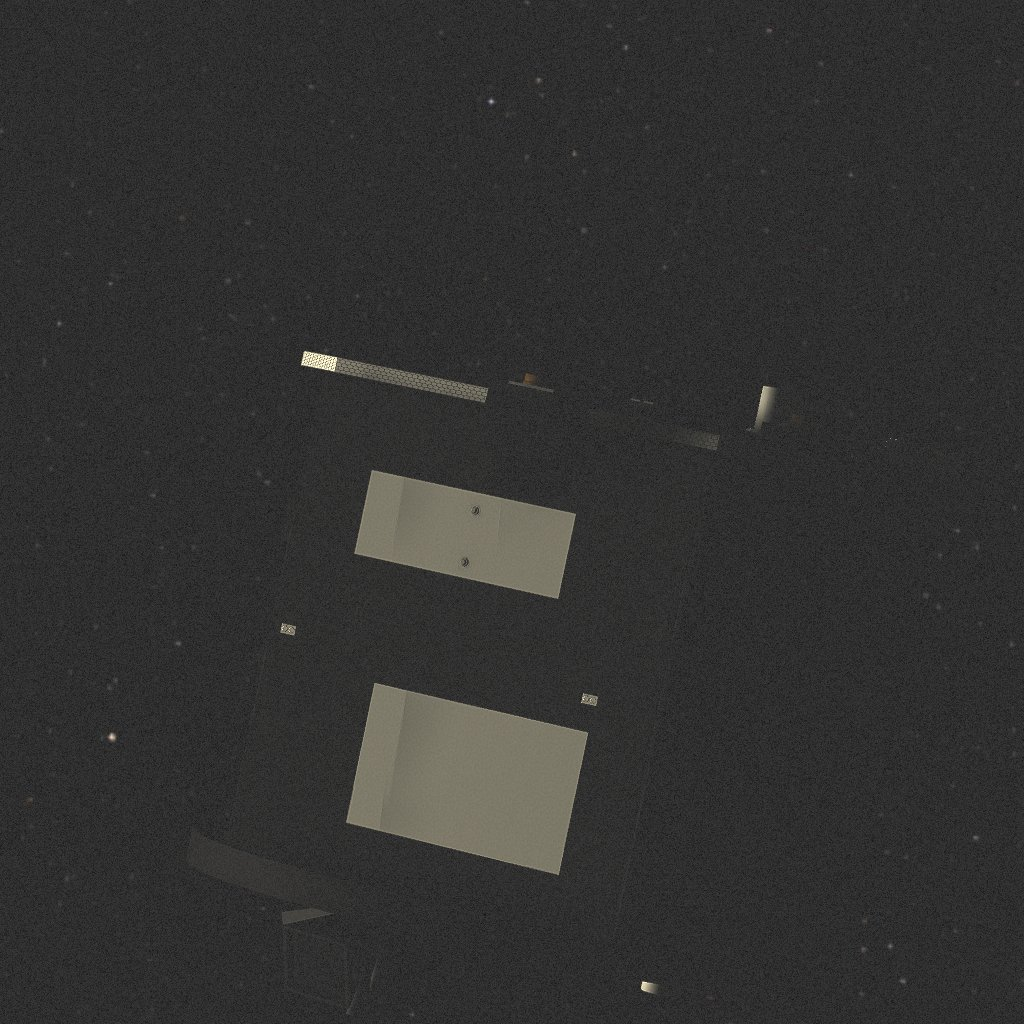proba_3_ocs: (186, 351, 965, 1024)
